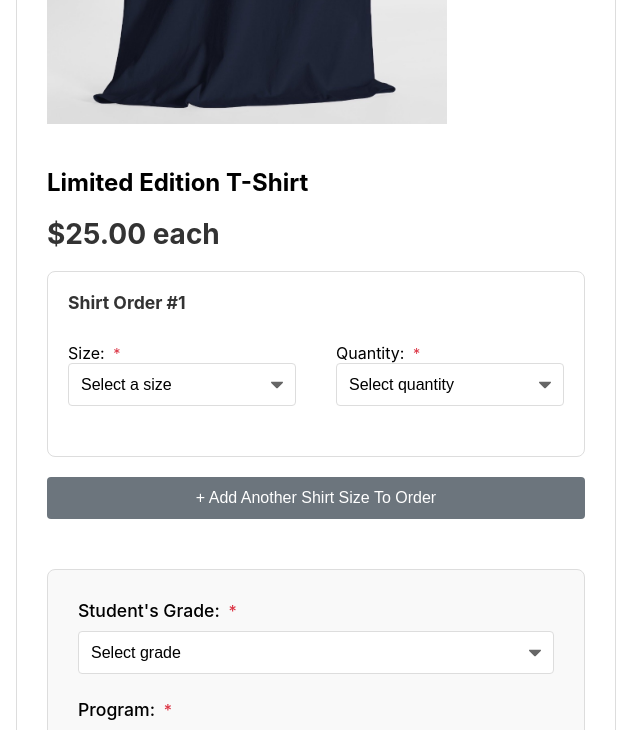
HomeView — error state when checkout API fails › shows an error message when fetch throws a network error
(page scrolled)
Select "S" in the dropdown with id "size-0": coordinates (182, 385) [68,363,296,406]
Select "1" in the dropdown labelled "Quantity: *": coordinates (450, 385) [336,363,564,406]
(page scrolled)
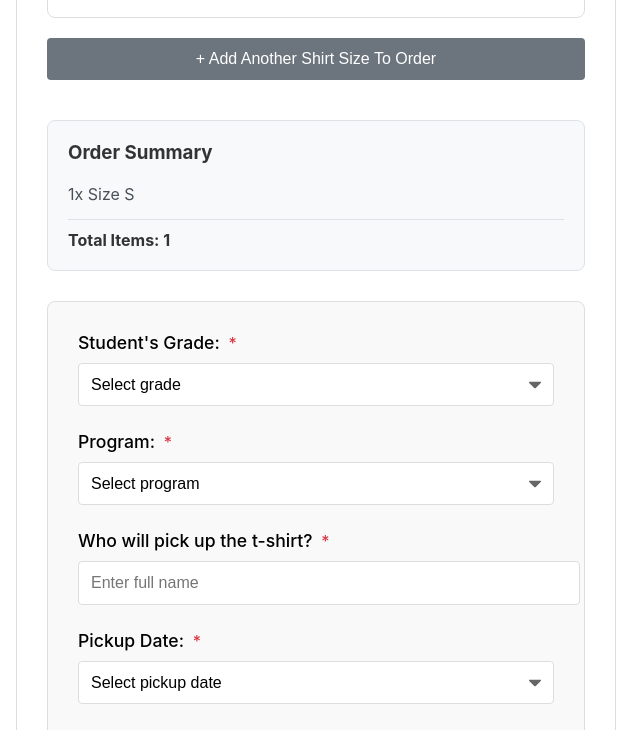
Select "Kindergarten" in the dropdown with id "grade": coordinates (316, 385) [78,363,554,406]
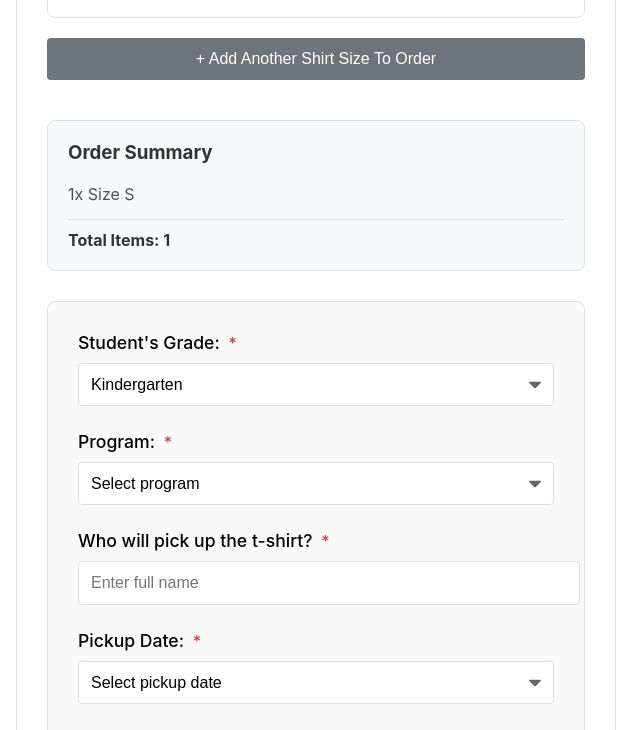
Select "Spanish" in the dropdown labelled "Program: *": coordinates (316, 484) [78,462,554,505]
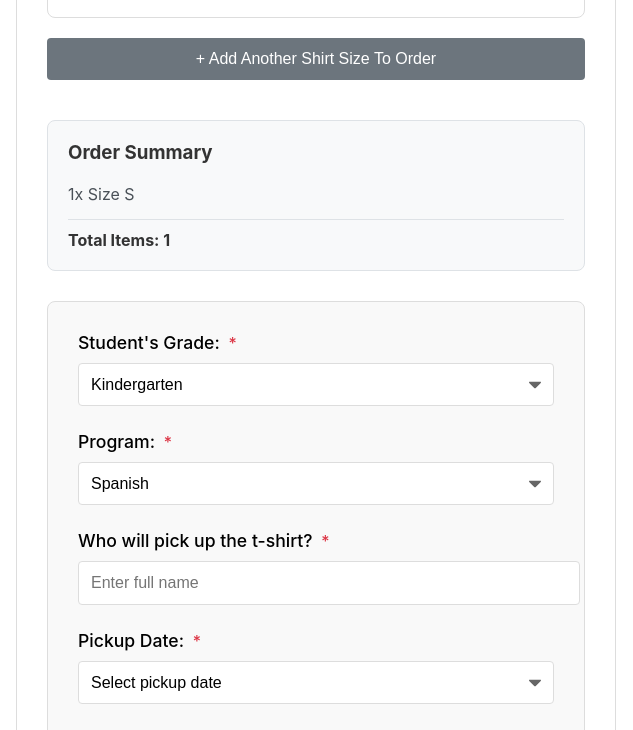
In the field labelled "Who will pick up the t-shirt? *": coordinates (329, 583) [78,561,580,605], type "John Smith"
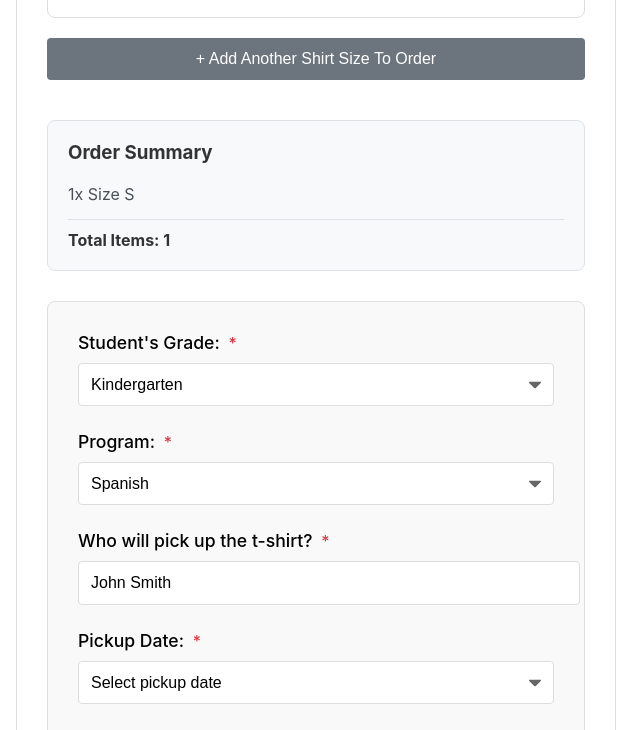
Select "2/16" in the dropdown labelled "Pickup Date: *": coordinates (316, 683) [78,661,554,704]
(page scrolled)
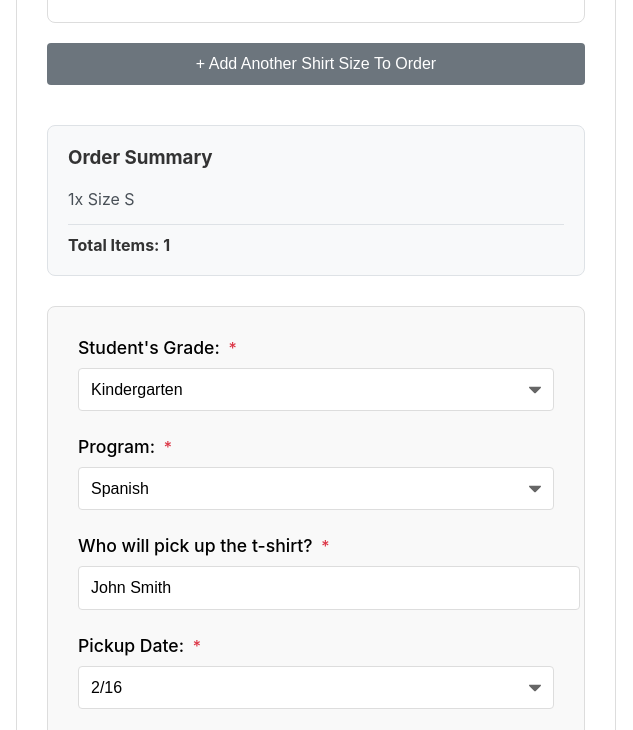
Submit the form
(page scrolled)
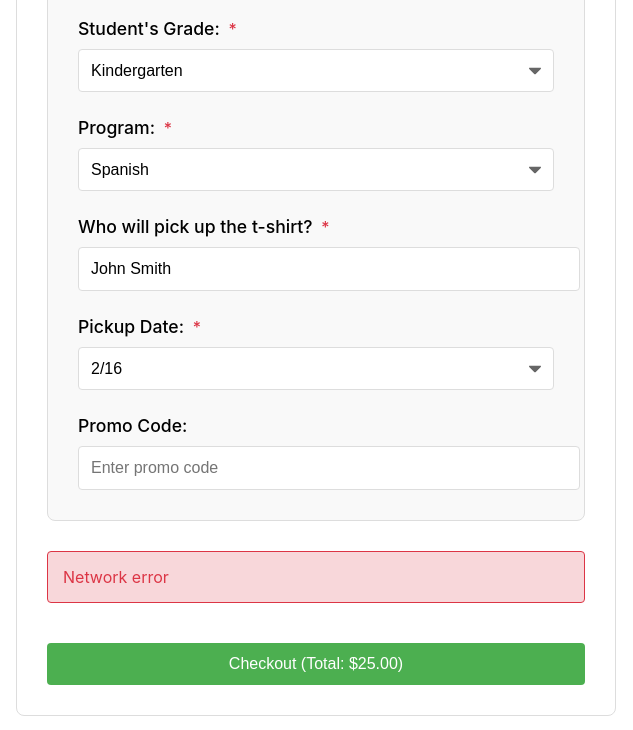
Check: the text "Network error" is shown, box [47,551,585,603]
Check: the text with class "error-message" reads "Network error", box [63,567,169,587]
